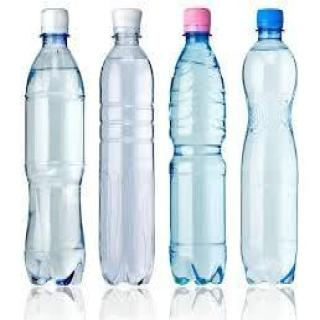Plastic-bottle: (24, 6, 88, 291), (167, 6, 229, 288), (240, 7, 300, 290), (98, 8, 156, 288)
